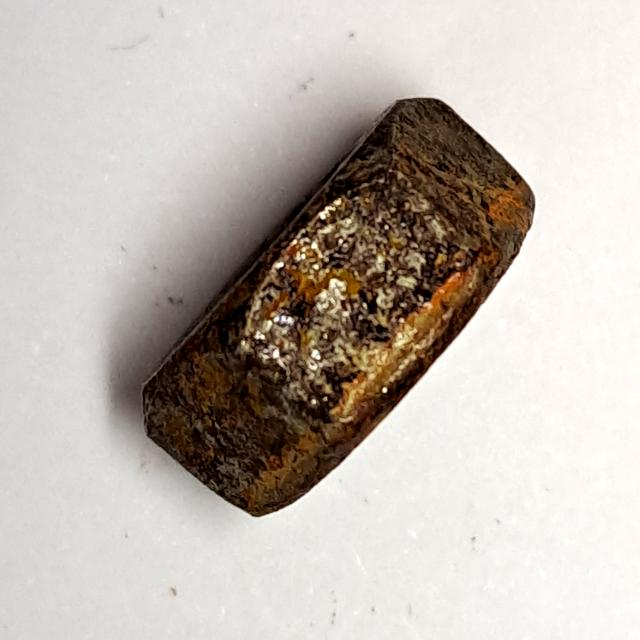Side_Rust: (128, 89, 547, 530)
